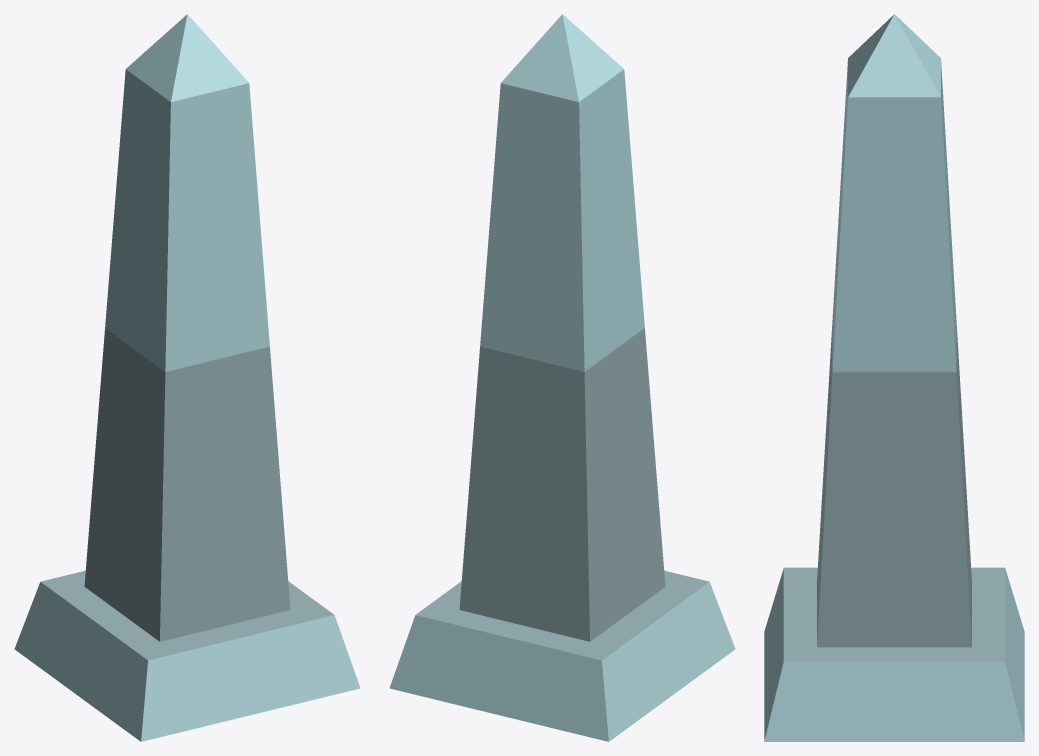
The model's file is d_kenney_obelisque.glb.
The picture shows the model from 3 angles, left to right: view 1: azimuth 30°, elevation 25°; view 2: azimuth 150°, elevation 25°; view 3: azimuth 270°, elevation 25°; orthographic projection. The views are drawn at different scales.
Parts seen in each view (by area): view 1: d_kenney_obelisque; view 2: d_kenney_obelisque; view 3: d_kenney_obelisque.
Part boxes in pixels (x1,y1,x2,y2): d_kenney_obelisque: (14,14,360,741); d_kenney_obelisque: (389,14,735,741); d_kenney_obelisque: (764,14,1024,741).
Size of the model in its own units: 0.307 by 0.8754 by 0.307.
Materials: 1 (1 with a texture image).
